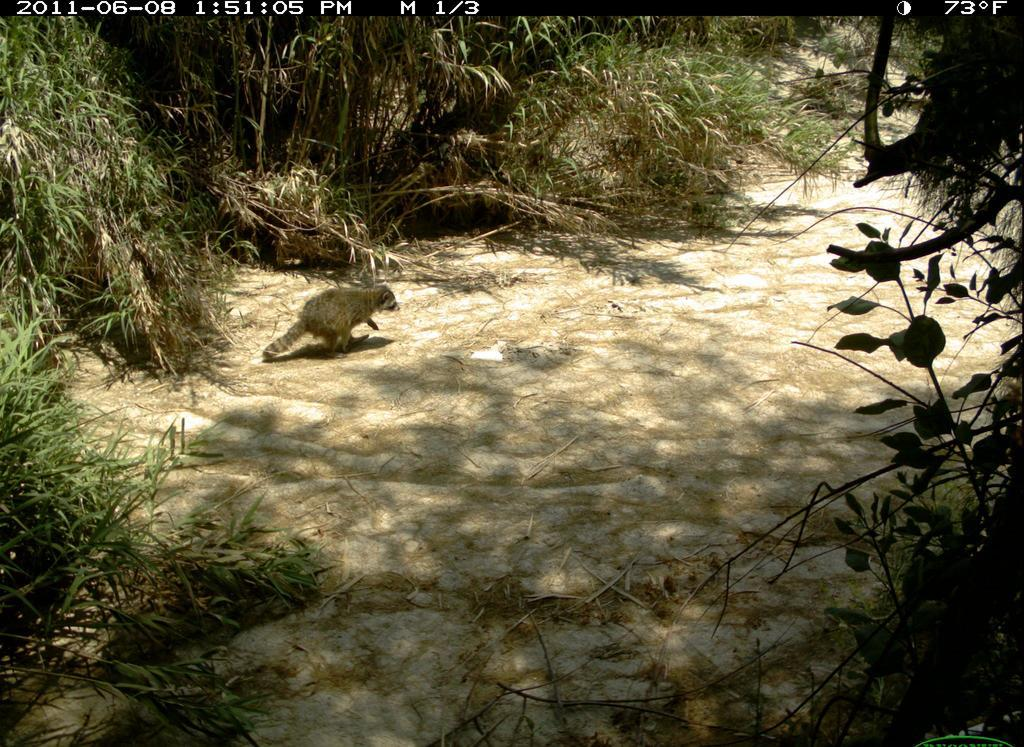raccoon: (254, 269, 413, 378)
